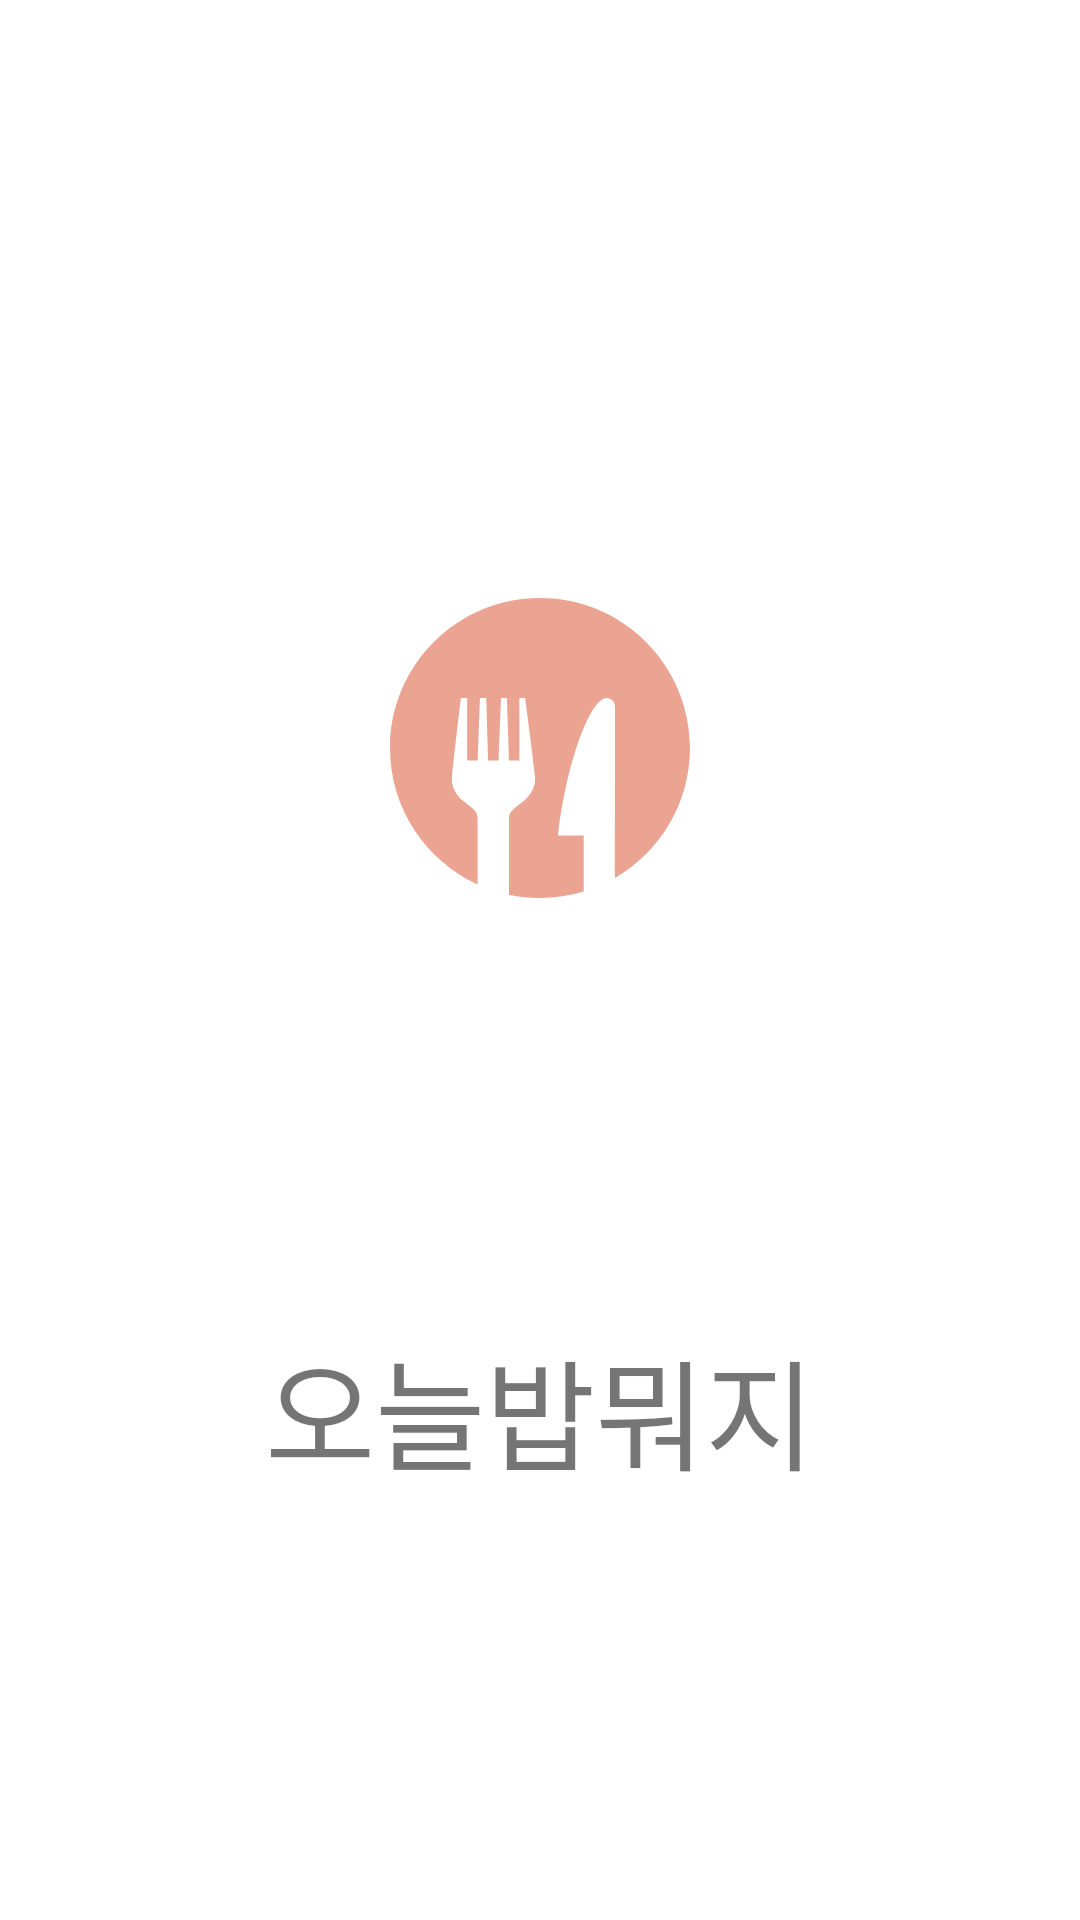

Screen size 1080 × 1920. Icon name, then its center in pixels as [x,y]:
eat: [540,748]
